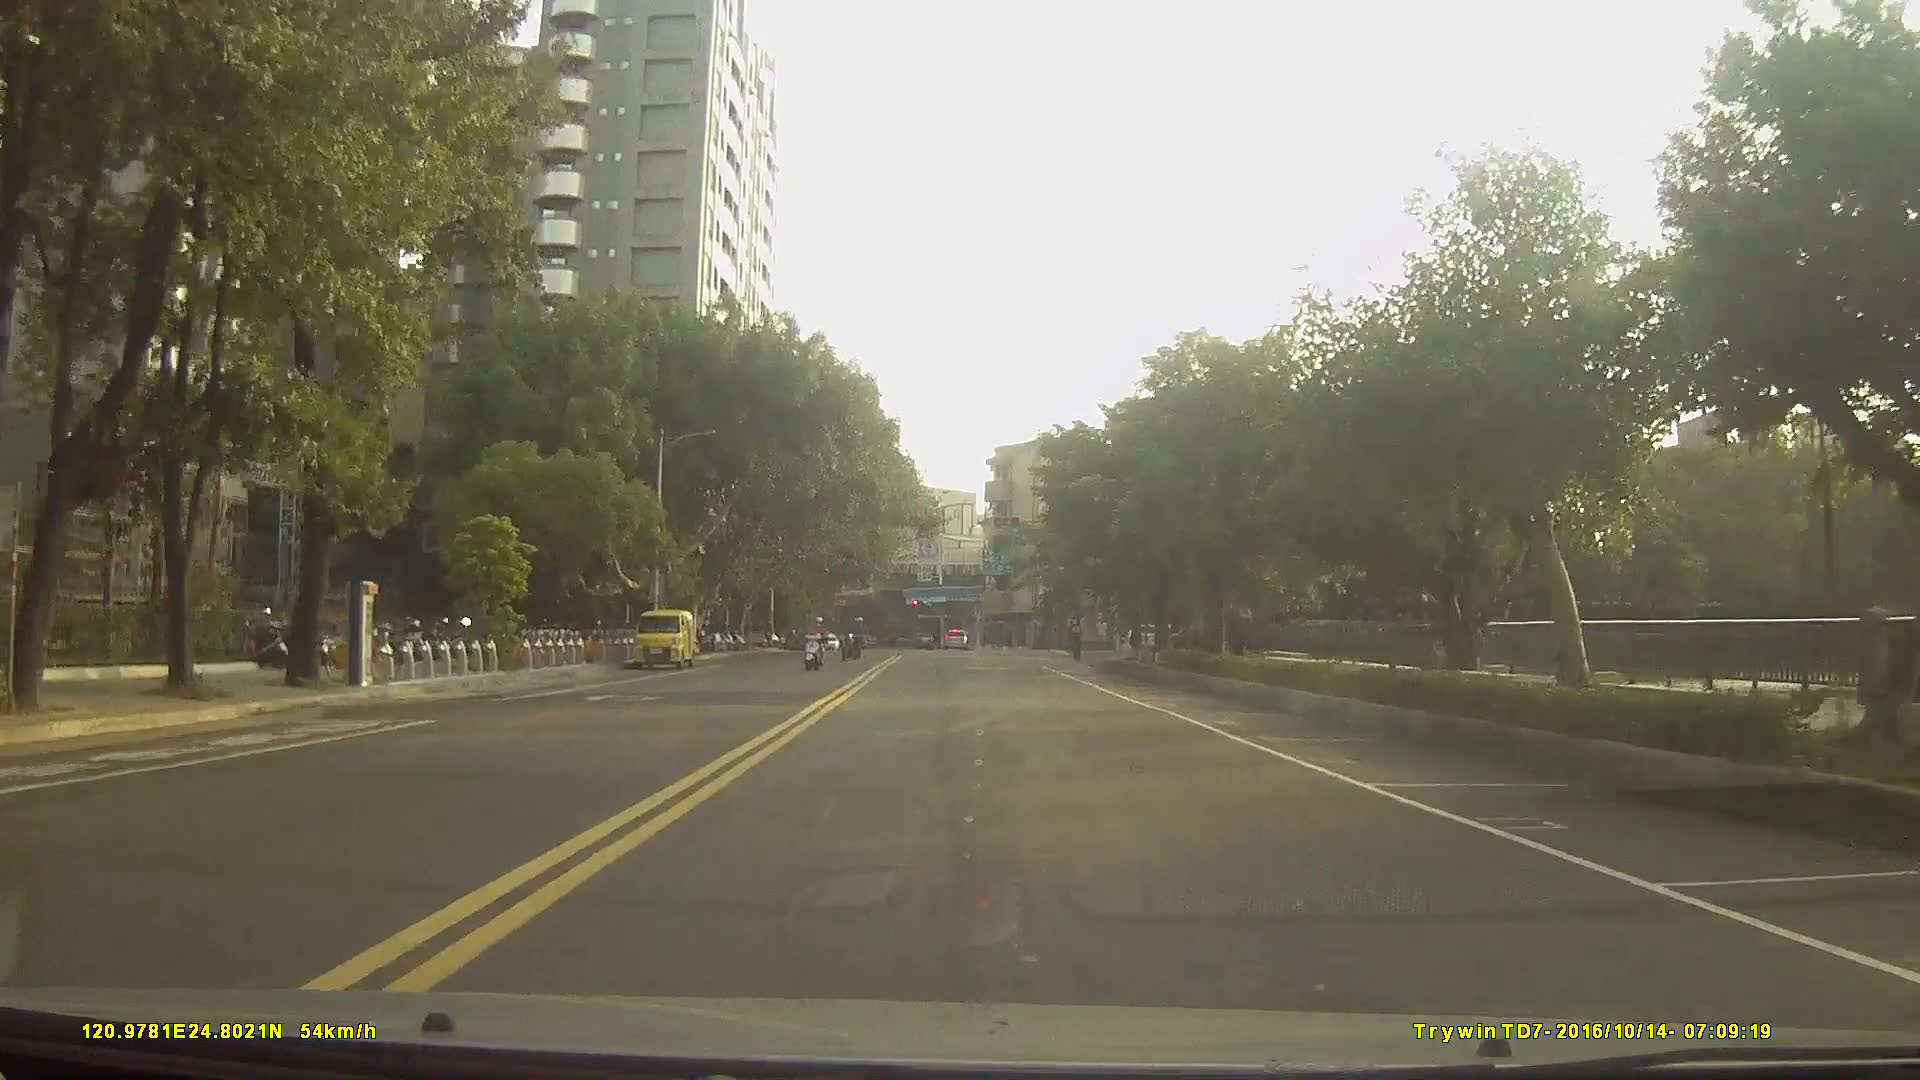pedestrian: (1093, 612, 1113, 653)
rider: (802, 618, 832, 673), (839, 616, 869, 664)
vehicle: (937, 629, 969, 653)
